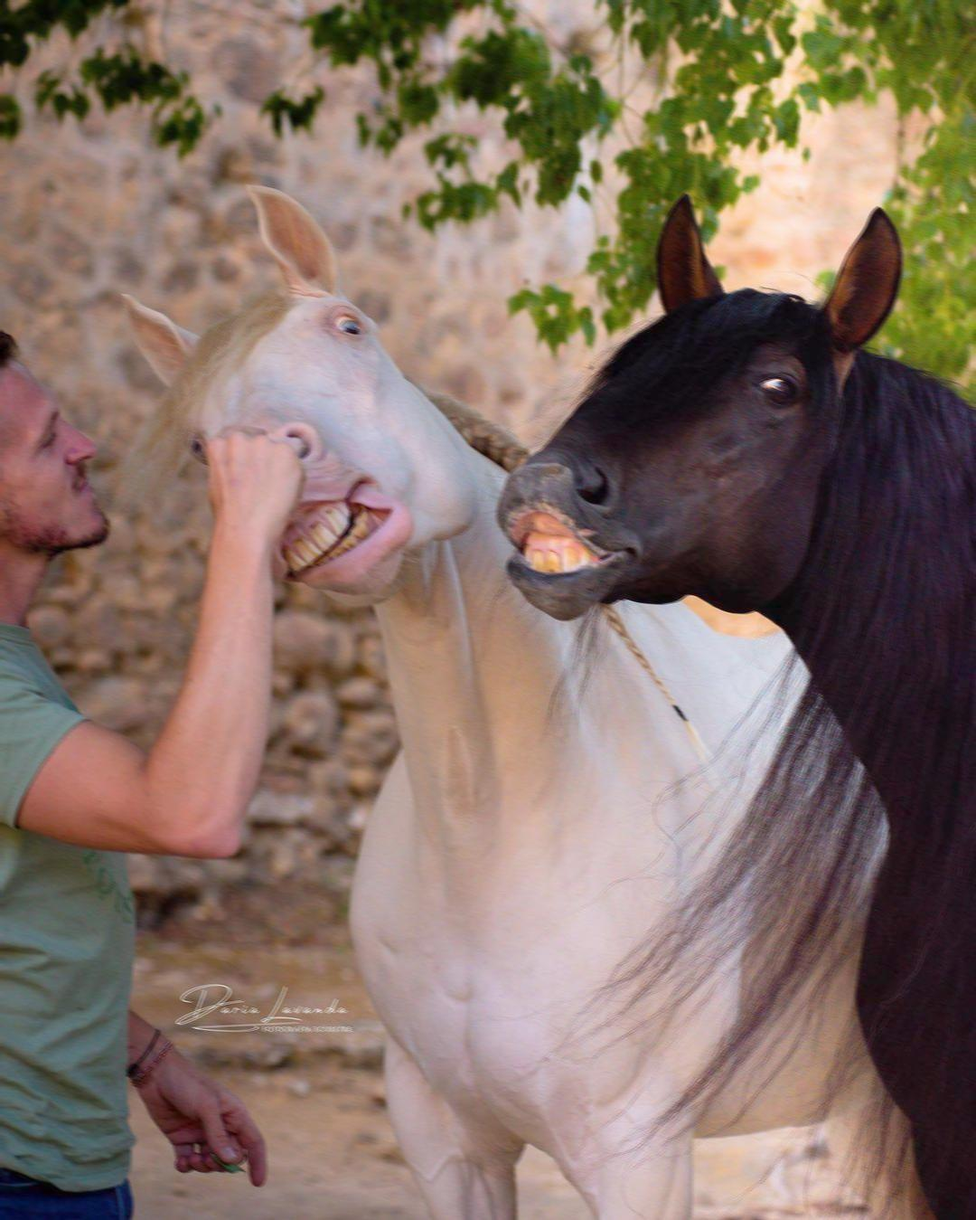horse: (111, 181, 926, 1217), (491, 192, 975, 1218)
